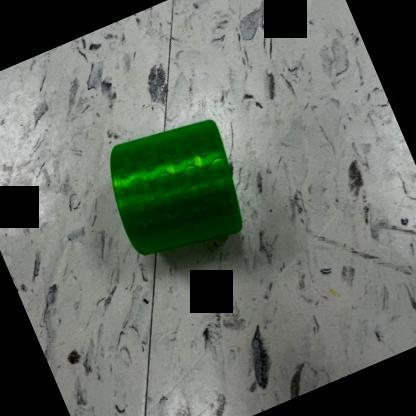green cylinder: (91, 100, 263, 276)
